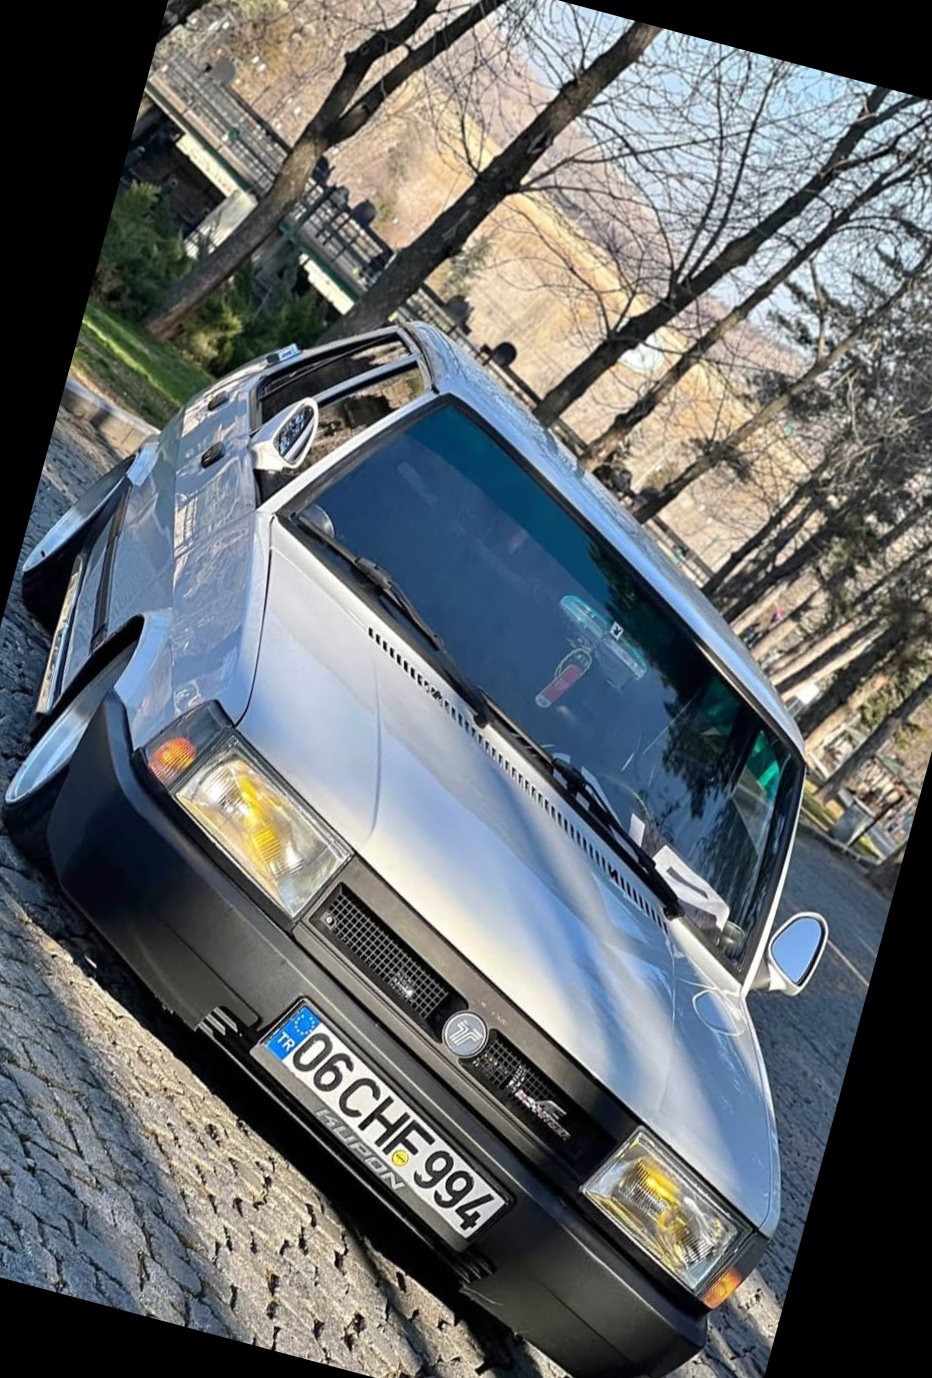plaka: (265, 1015, 503, 1258)
